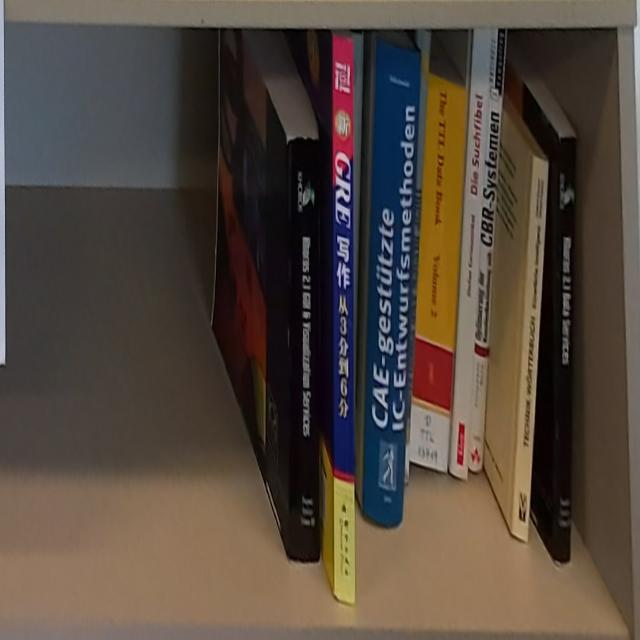Book Spine: (360, 37, 421, 529), (407, 71, 469, 474), (449, 26, 491, 482), (469, 29, 510, 476), (509, 161, 551, 546), (330, 32, 357, 612), (285, 136, 321, 568), (405, 28, 434, 486), (555, 138, 577, 570)
